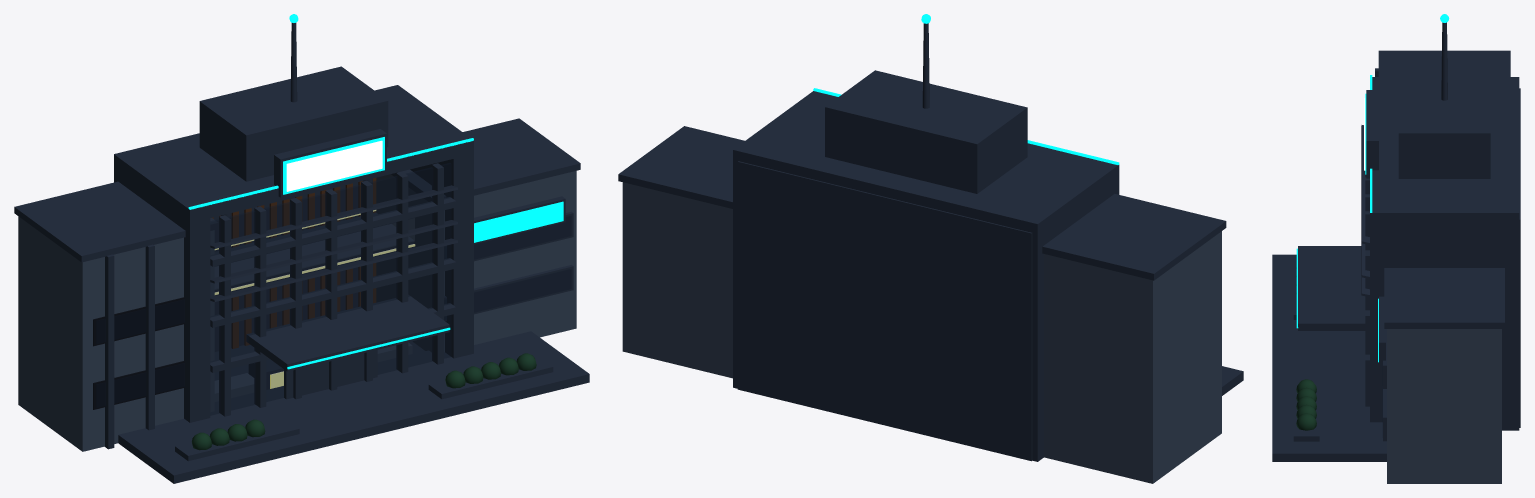
File: headquarters.glb
The picture shows the model from 3 angles, left to right: view 1: azimuth 30°, elevation 25°; view 2: azimuth 150°, elevation 25°; view 3: azimuth 270°, elevation 25°; orthographic projection. The views are drawn at different scales.
Parts seen in each view (by area): view 1: DVLD_Headquarters_Architecture, Central_Atrium_Pavilion; view 2: DVLD_Headquarters_Architecture, Central_Atrium_Pavilion; view 3: DVLD_Headquarters_Architecture, Central_Atrium_Pavilion.
Part boxes in pixels (x1,y1,x2,y2): DVLD_Headquarters_Architecture: (14, 14, 589, 483); Central_Atrium_Pavilion: (114, 85, 473, 422); DVLD_Headquarters_Architecture: (618, 14, 1243, 483); Central_Atrium_Pavilion: (733, 91, 1119, 461); DVLD_Headquarters_Architecture: (1272, 14, 1510, 483); Central_Atrium_Pavilion: (1361, 77, 1520, 430).
Bounding box in the file's own units: 9.9 × 6.69 × 4.33.
